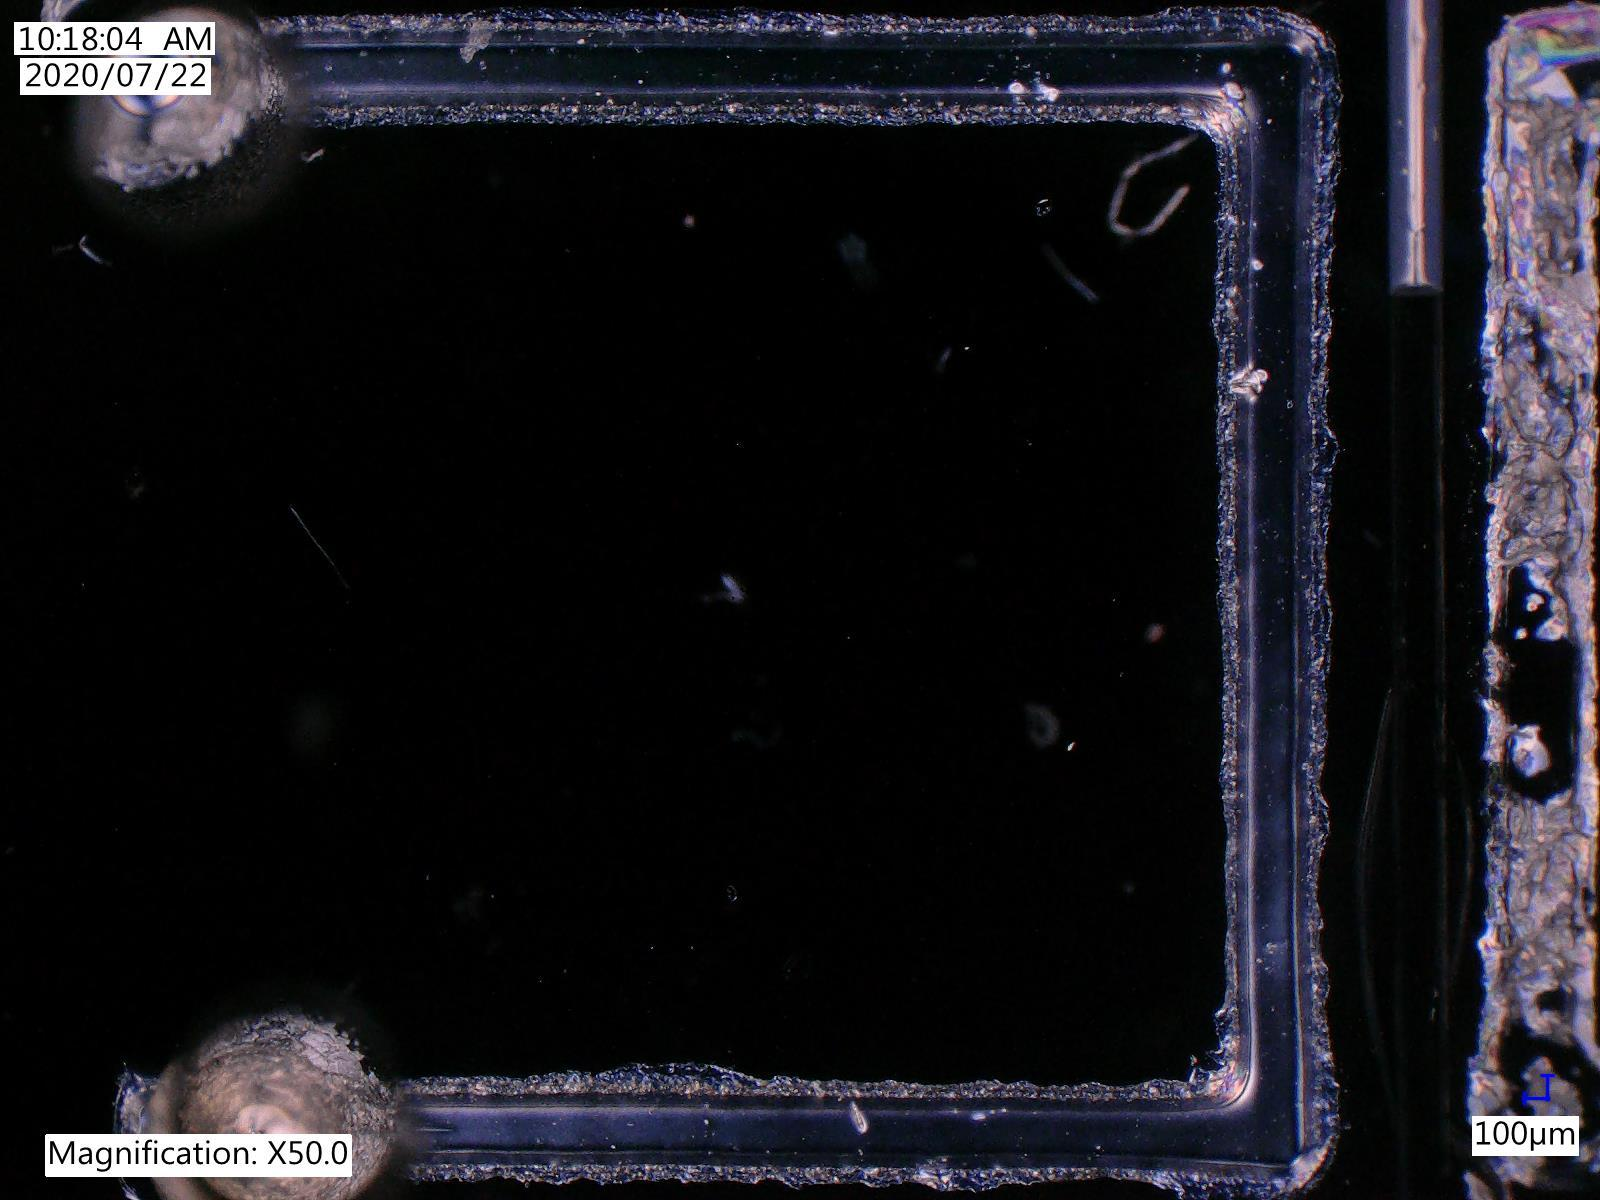sediment: (1495, 359, 1575, 563), (1494, 93, 1582, 276), (1502, 795, 1581, 989)
